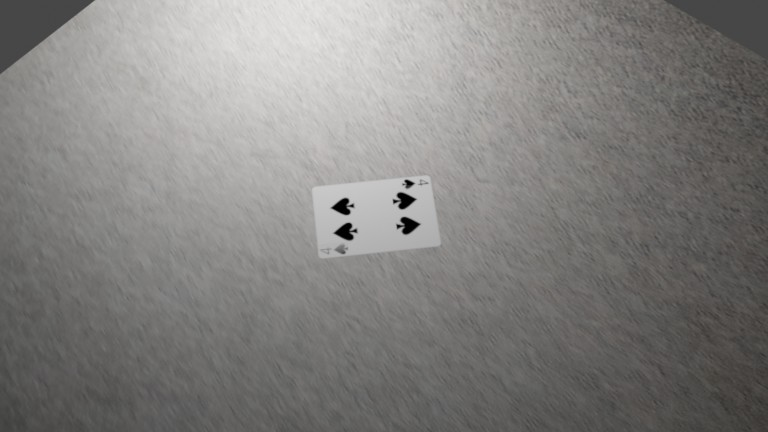4_of_spades: (160, 70, 172, 77), (128, 96, 140, 103)
